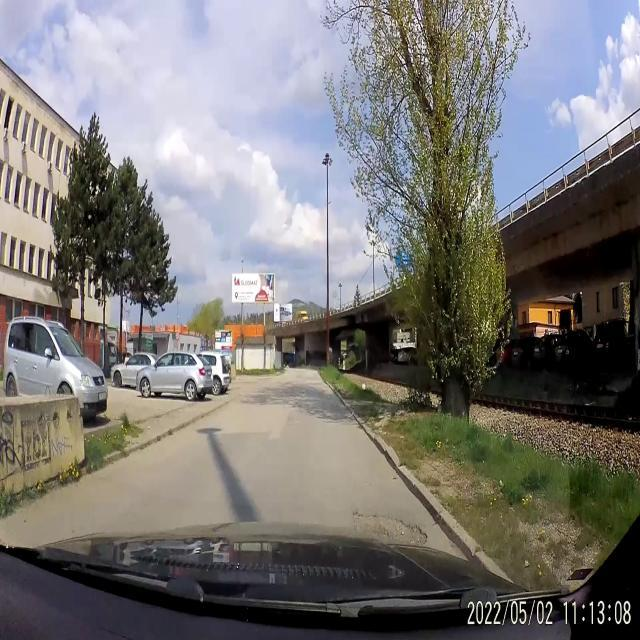Pothole: (351, 508, 428, 546)
